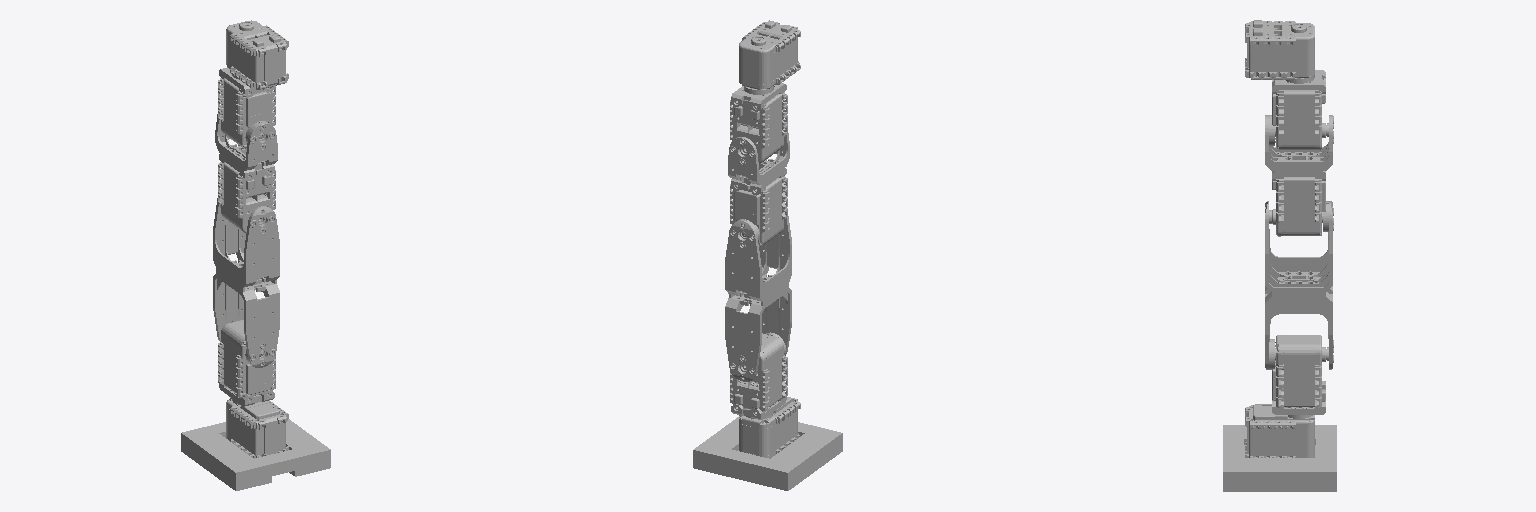
URDF robot description (robot_arm_description_urdfv2):
<?xml version="1.0" encoding="utf-8"?>
<!-- This URDF was automatically created by SolidWorks to URDF Exporter! Originally created by [author] ([email redacted]) 
     Commit Version: 1.6.0-4-g7f85cfe  Build Version: 1.6.7995.38578
     For more information, please see http://wiki.ros.org/sw_urdf_exporter -->
<robot
  name="robot_arm_description_urdfv2">
  <link
    name="world">
  </link>
  <link
    name="base_link">
    <inertial>
      <origin
        xyz="-1.07538455533607E-05 -0.0117775627705684 0.0125372666058965"
        rpy="0 0 0" />
      <mass
        value="0.121294608566647" />
      <inertia
        ixx="5.94662409994371E-05"
        ixy="1.49860101831399E-09"
        ixz="1.03128418712731E-08"
        iyy="0.00010654266000446"
        iyz="-5.79668025781034E-07"
        izz="5.77712338448447E-05" />
    </inertial>
    <visual>
      <origin
        xyz="0 0 0"
        rpy="0 0 0" />
      <geometry>
        <mesh
          filename="package://robot_arm_description_urdfv2/meshes/base_link.STL" />
      </geometry>
      <material
        name="">
        <color
          rgba="0.752941176470588 0.752941176470588 0.752941176470588 1" />
      </material>
    </visual>
    <collision>
      <origin
        xyz="0 0 0"
        rpy="0 0 0" />
      <geometry>
        <mesh
          filename="package://robot_arm_description_urdfv2/meshes/base_link.STL" />
      </geometry>
    </collision>
  </link>
  <link
    name="link1">
    <inertial>
      <origin
        xyz="-2.94146434273942E-05 0.0269920612128342 0.00083220015368552"
        rpy="0 0 0" />
      <mass
        value="0.046254192075235" />
      <inertia
        ixx="1.20007548215275E-05"
        ixy="-1.01847426522444E-08"
        ixz="1.49860101831212E-09"
        iyy="6.96980725196722E-06"
        iyz="1.90997297443396E-07"
        izz="1.02170843157012E-05" />
    </inertial>
    <visual>
      <origin
        xyz="0 0 0"
        rpy="0 0 0" />
      <geometry>
        <mesh
          filename="package://robot_arm_description_urdfv2/meshes/link1.STL" />
      </geometry>
      <material
        name="">
        <color
          rgba="0.752941176470588 0.752941176470588 0.752941176470588 1" />
      </material>
    </visual>
    <collision>
      <origin
        xyz="0 0 0"
        rpy="0 0 0" />
      <geometry>
        <mesh
          filename="package://robot_arm_description_urdfv2/meshes/link1.STL" />
      </geometry>
    </collision>
  </link>
  <joint
    name="joint0"
    type="revolute">
    <origin
      xyz="0 0 0.021"
      rpy="1.5708 0 0" />
    <parent
      link="base_link" />
    <child
      link="link1" />
    <axis
      xyz="0 1 0" />
    <limit
      lower="-2.61"
      upper="2.61"
      effort="0"
      velocity="0" />
  </joint>
  <link
    name="link2">
    <inertial>
      <origin
        xyz="2.76858768055946E-17 0.0536999999999999 5.93505709235589E-08"
        rpy="0 0 0" />
      <mass
        value="0.0263111889052218" />
      <inertia
        ixx="1.84432474694819E-05"
        ixy="-1.59528870360902E-07"
        ixz="1.06205790125261E-21"
        iyy="1.20154219536201E-05"
        iyz="-5.95911253040858E-21"
        izz="1.04675257240632E-05" />
    </inertial>
    <visual>
      <origin
        xyz="0 0 0"
        rpy="0 0 0" />
      <geometry>
        <mesh
          filename="package://robot_arm_description_urdfv2/meshes/link2.STL" />
      </geometry>
      <material
        name="">
        <color
          rgba="0.752941176470588 0.752941176470588 0.752941176470588 1" />
      </material>
    </visual>
    <collision>
      <origin
        xyz="0 0 0"
        rpy="0 0 0" />
      <geometry>
        <mesh
          filename="package://robot_arm_description_urdfv2/meshes/link2.STL" />
      </geometry>
    </collision>
  </link>
  <joint
    name="joint1"
    type="revolute">
    <origin
      xyz="0 0.0415 0"
      rpy="0 0 0" />
    <parent
      link="link1" />
    <child
      link="link2" />
    <axis
      xyz="0 0 1" />
    <limit
      lower="-2.61"
      upper="2.61"
      effort="0"
      velocity="0" />
  </joint>
  <link
    name="link3">
    <inertial>
      <origin
        xyz="-2.36223752053624E-05 0.019670540731061 -0.00071887656433675"
        rpy="0 0 0" />
      <mass
        value="0.0535456956908988" />
      <inertia
        ixx="1.52363550556999E-05"
        ixy="1.0284004752853E-08"
        ixz="-1.49860100269963E-09"
        iyy="9.84641724307731E-06"
        iyz="1.90997297450323E-07"
        izz="1.14429253130876E-05" />
    </inertial>
    <visual>
      <origin
        xyz="0 0 0"
        rpy="0 0 0" />
      <geometry>
        <mesh
          filename="package://robot_arm_description_urdfv2/meshes/link3.STL" />
      </geometry>
      <material
        name="">
        <color
          rgba="0.752941176470588 0.752941176470588 0.752941176470588 1" />
      </material>
    </visual>
    <collision>
      <origin
        xyz="0 0 0"
        rpy="0 0 0" />
      <geometry>
        <mesh
          filename="package://robot_arm_description_urdfv2/meshes/link3.STL" />
      </geometry>
    </collision>
  </link>
  <joint
    name="joint2"
    type="revolute">
    <origin
      xyz="0 0.1074 0"
      rpy="0 0 0" />
    <parent
      link="link2" />
    <child
      link="link3" />
    <axis
      xyz="0 0 1" />
    <limit
      lower="-2.61"
      upper="2.61"
      effort="0"
      velocity="0" />
  </joint>
  <link
    name="link4">
    <inertial>
      <origin
        xyz="2.69860168570977E-05 0.0145079387871658 0.000832200153683097"
        rpy="0 0 0" />
      <mass
        value="0.046254192075235" />
      <inertia
        ixx="1.20007548215275E-05"
        ixy="-1.04409410903087E-08"
        ixz="-1.4986010182921E-09"
        iyy="6.96980725196721E-06"
        iyz="-1.90997297443369E-07"
        izz="1.02170843157012E-05" />
    </inertial>
    <visual>
      <origin
        xyz="0 0 0"
        rpy="0 0 0" />
      <geometry>
        <mesh
          filename="package://robot_arm_description_urdfv2/meshes/link4.STL" />
      </geometry>
      <material
        name="">
        <color
          rgba="0.752941176470588 0.752941176470588 0.752941176470588 1" />
      </material>
    </visual>
    <collision>
      <origin
        xyz="0 0 0"
        rpy="0 0 0" />
      <geometry>
        <mesh
          filename="package://robot_arm_description_urdfv2/meshes/link4.STL" />
      </geometry>
    </collision>
  </link>
  <joint
    name="joint3"
    type="revolute">
    <origin
      xyz="0 0.0675 0"
      rpy="0 0 0" />
    <parent
      link="link3" />
    <child
      link="link4" />
    <axis
      xyz="0 0 1" />
    <limit
      lower="-2.61"
      upper="2.61"
      effort="0"
      velocity="0" />
  </joint>
  <link
    name="link5">
    <inertial>
      <origin
        xyz="-3.04816214619362E-05 -0.0127516759226218 -0.0200450812719365"
        rpy="0 0 0" />
      <mass
        value="0.0427924573691145" />
      <inertia
        ixx="1.15260270483126E-05"
        ixy="-1.03128418712644E-08"
        ixz="1.49860101831276E-09"
        iyy="6.31498109388928E-06"
        iyz="1.90997297443399E-07"
        izz="1.00126420725118E-05" />
    </inertial>
    <visual>
      <origin
        xyz="0 0 0"
        rpy="0 0 0" />
      <geometry>
        <mesh
          filename="package://robot_arm_description_urdfv2/meshes/link5.STL" />
      </geometry>
      <material
        name="">
        <color
          rgba="0.752941176470588 0.752941176470588 0.752941176470588 1" />
      </material>
    </visual>
    <collision>
      <origin
        xyz="0 0 0"
        rpy="0 0 0" />
      <geometry>
        <mesh
          filename="package://robot_arm_description_urdfv2/meshes/link5.STL" />
      </geometry>
    </collision>
  </link>
  <joint
    name="joint4"
    type="revolute">
    <origin
      xyz="0 0.041449 0"
      rpy="-1.5708 0 3.1416" />
    <parent
      link="link4" />
    <child
      link="link5" />
    <axis
      xyz="0 0 1" />
    <limit
      lower="-2.61"
      upper="2.61"
      effort="0"
      velocity="0" />
  </joint>
  
  <joint
    name="fixed_joint"
    type="fixed">
    <origin
      xyz="0 0 0.026"
      rpy="0 0 0" />
    <parent
      link="world" />
    <child
      link="base_link" />
  </joint>
</robot>

--- Render facts (derived) ---
3 views of the same robot in one strip: view 1: azimuth 30°, elevation 25°; view 2: azimuth 150°, elevation 25°; view 3: azimuth 270°, elevation 25° (orthographic).
Robot: robot_arm_description_urdfv2 — 7 links, 6 joints (5 revolute, 1 fixed); root link world; default pose: all joints at 0.
Visible links, largest first — view 1: base_link, link2, link3, link5, link1, link4; view 2: link2, base_link, link3, link5, link4, link1; view 3: base_link, link3, link2, link1, link5, link4.
Boxes of the visible links, x1,y1,x2,y2 form: base_link: (181, 397, 330, 490); link2: (213, 198, 279, 367); link3: (215, 114, 277, 232); link5: (226, 20, 288, 89); link1: (218, 320, 275, 406); link4: (218, 68, 275, 148); link2: (725, 212, 791, 381); base_link: (693, 397, 842, 490); link3: (728, 133, 789, 246); link5: (739, 20, 800, 94); link4: (730, 83, 787, 163); link1: (730, 332, 787, 419); base_link: (1223, 404, 1336, 491); link3: (1265, 115, 1333, 236); link2: (1265, 201, 1333, 369); link1: (1269, 335, 1328, 414); link5: (1245, 20, 1314, 83); link4: (1269, 70, 1328, 149).
Bounding box of the posed robot: 0.08 × 0.08 × 0.3449 m (x, y, z).
Meshes: 6 distinct files referenced, 6 mesh visuals loaded (6 binary STL).